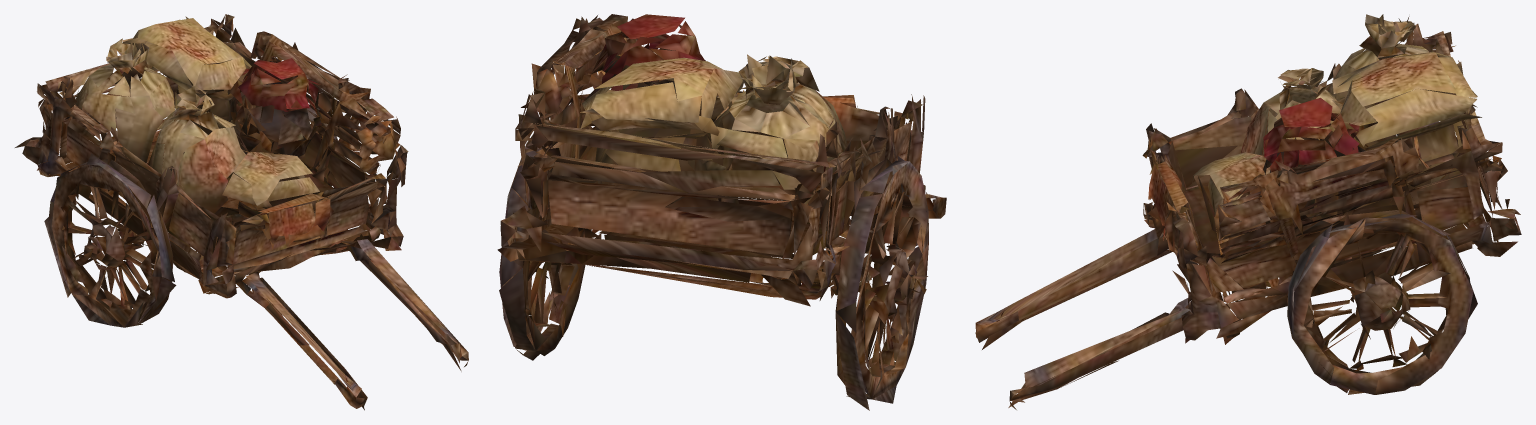
Rendered from carroca_lod1.glb.
The picture shows the model from 3 angles, left to right: view 1: azimuth 30°, elevation 25°; view 2: azimuth 150°, elevation 25°; view 3: azimuth 270°, elevation 25°; orthographic projection. The views are drawn at different scales.
Visible parts, largest first — view 1: carroca; view 2: carroca; view 3: carroca.
Boxes of the visible parts, x1=… form: carroca: x1=15, y1=14, x2=468, y2=410; carroca: x1=497, y1=14, x2=946, y2=410; carroca: x1=975, y1=14, x2=1521, y2=409.
Size of the model in its own units: 1.91 by 1.68 by 2.76.
1 material, 1 textured.
